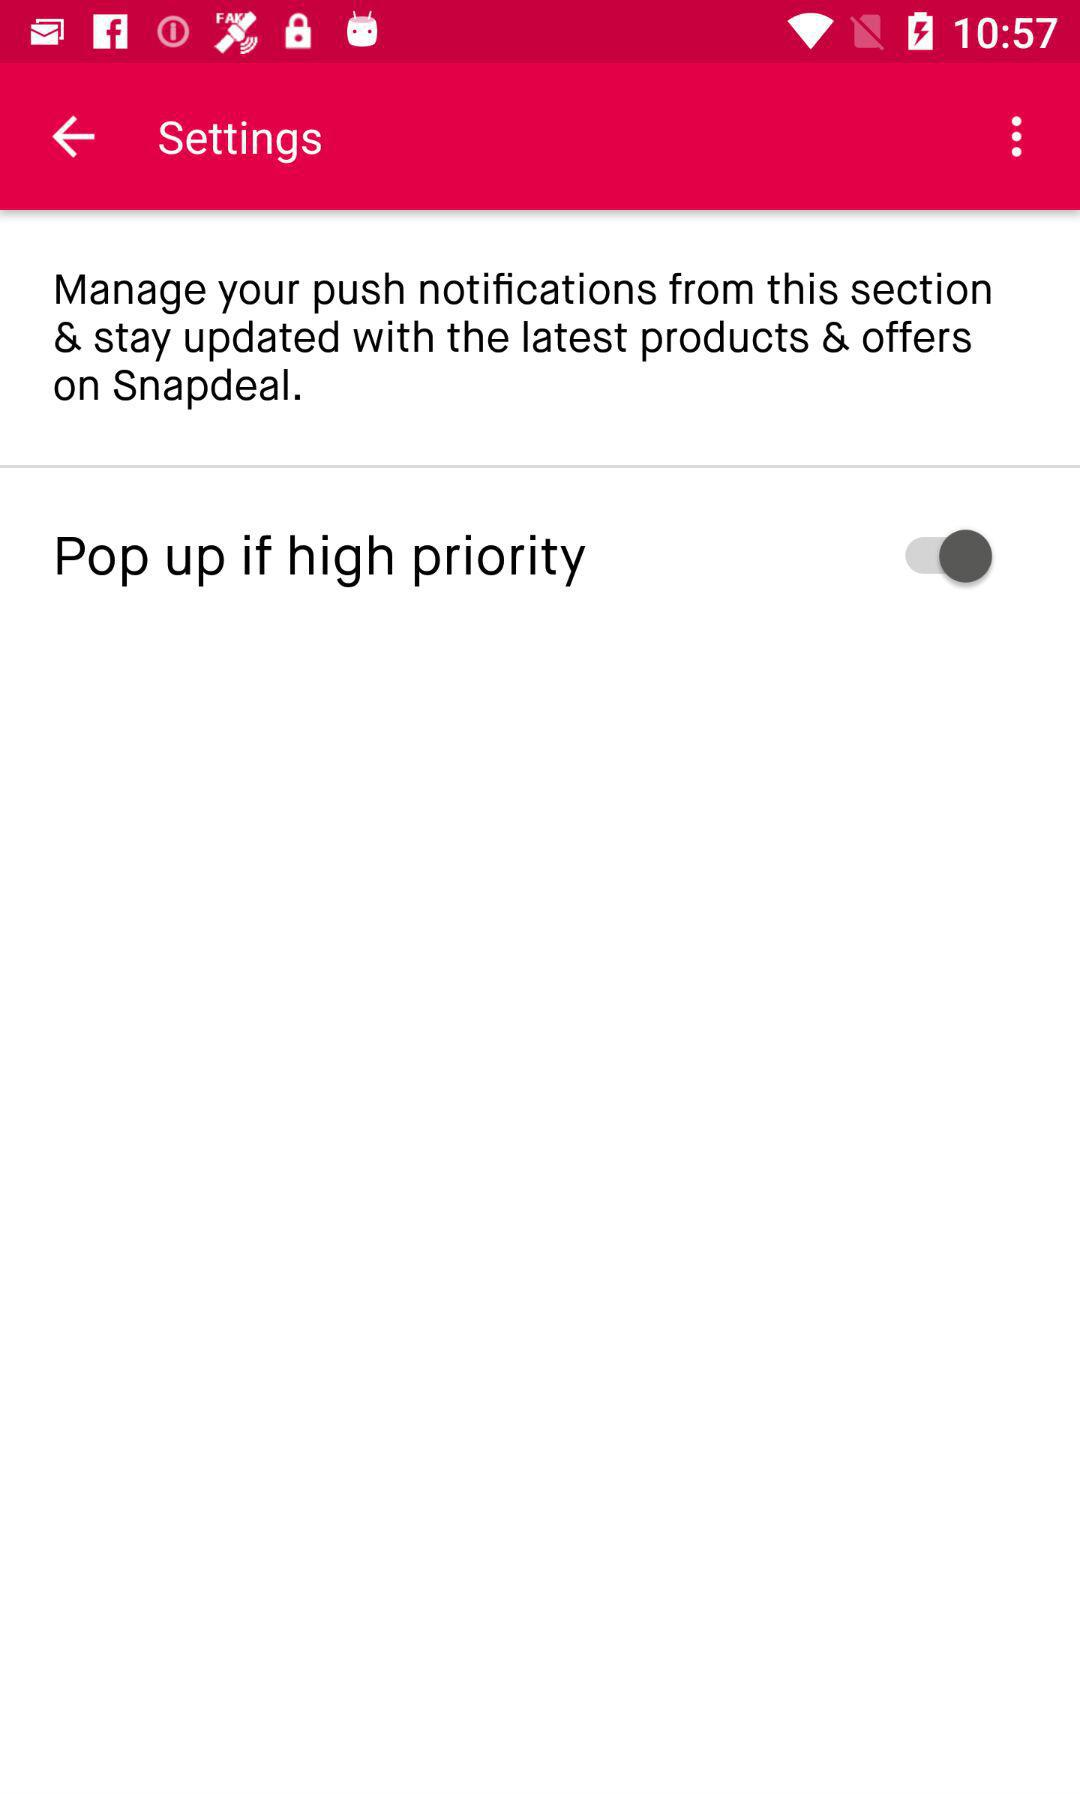Icon: (53, 115, 96, 160), (1010, 117, 1024, 159)
Switch: (904, 528, 993, 586)
Text: (55, 272, 992, 413), (56, 536, 587, 589), (159, 120, 323, 167)
Toolbar: (1, 62, 1080, 211)
UpperTaskBar: (1, 1, 1080, 64)
